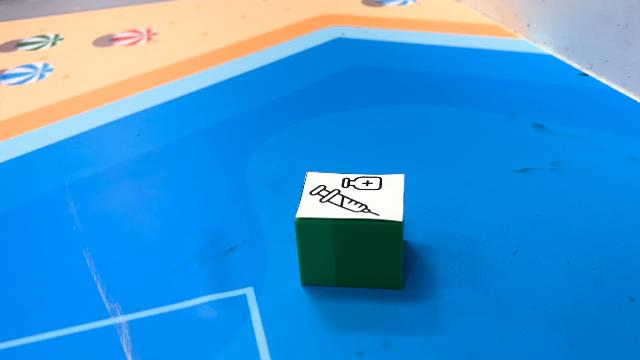syringe: (295, 171, 407, 291)
